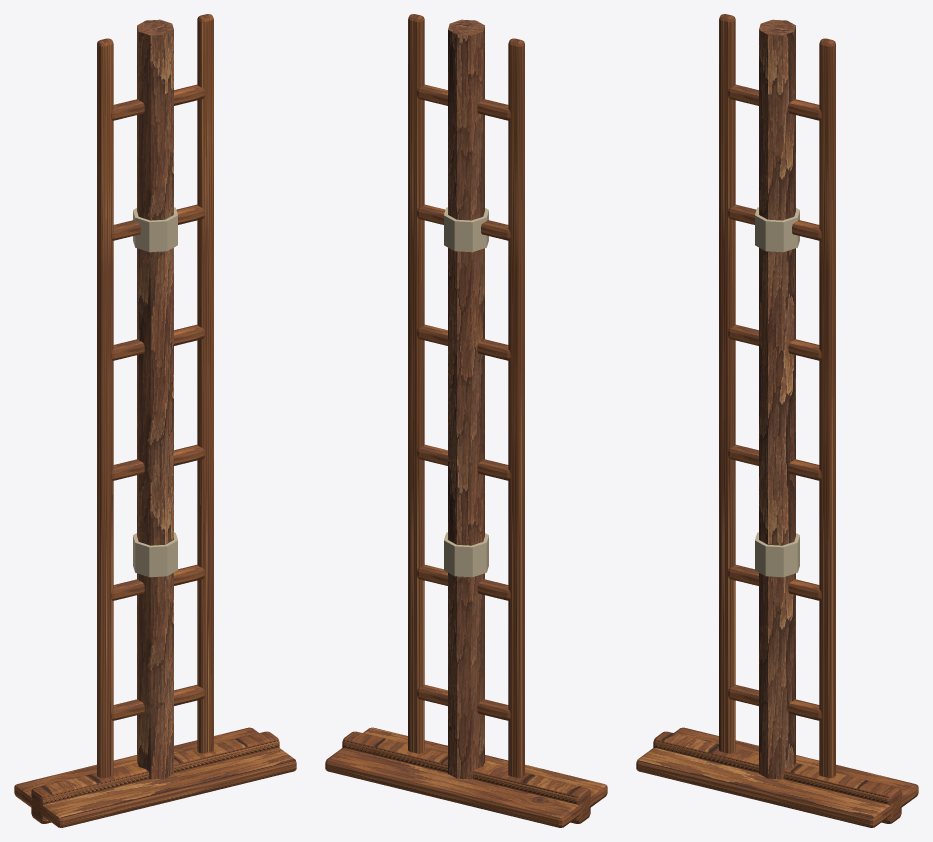
The model's file is scaffold-kit.glb.
3 renders of one model, left to right at view 1: azimuth 30°, elevation 25°; view 2: azimuth 150°, elevation 25°; view 3: azimuth 330°, elevation 25°, orthographic.
Parts seen in each view (by area): view 1: Scaffold_Post, railL, railR, Scaffold_Plank, Scaffold_Beam, rung2, rung3, rung5, rung0, rung1, rung4; view 2: Scaffold_Post, railL, railR, Scaffold_Plank, Scaffold_Beam, rung2, rung3, rung5, rung0, rung1, rung4; view 3: Scaffold_Post, railR, railL, Scaffold_Plank, Scaffold_Beam, rung2, rung3, rung5, rung0, rung1, rung4.
Boxes of the visible parts, x1=… form: Scaffold_Post: x1=133, y1=19, x2=177, y2=779; railL: x1=97, y1=38, x2=113, y2=777; railR: x1=197, y1=14, x2=213, y2=753; Scaffold_Plank: x1=14, y1=727, x2=296, y2=827; Scaffold_Beam: x1=31, y1=731, x2=279, y2=823; rung2: x1=111, y1=444, x2=204, y2=480; rung3: x1=111, y1=324, x2=204, y2=360; rung5: x1=111, y1=84, x2=204, y2=120; rung0: x1=111, y1=685, x2=204, y2=720; rung1: x1=111, y1=564, x2=204, y2=600; rung4: x1=111, y1=204, x2=204, y2=240; Scaffold_Post: x1=444, y1=19, x2=488, y2=779; railL: x1=508, y1=38, x2=524, y2=777; railR: x1=408, y1=14, x2=424, y2=753; Scaffold_Plank: x1=325, y1=727, x2=607, y2=827; Scaffold_Beam: x1=342, y1=731, x2=590, y2=823; rung2: x1=417, y1=444, x2=510, y2=480; rung3: x1=417, y1=324, x2=510, y2=360; rung5: x1=417, y1=84, x2=510, y2=120; rung0: x1=417, y1=685, x2=510, y2=720; rung1: x1=417, y1=564, x2=510, y2=600; rung4: x1=417, y1=204, x2=510, y2=240; Scaffold_Post: x1=755, y1=19, x2=799, y2=779; railR: x1=819, y1=38, x2=835, y2=777; railL: x1=719, y1=14, x2=735, y2=753; Scaffold_Plank: x1=636, y1=727, x2=918, y2=827; Scaffold_Beam: x1=653, y1=731, x2=901, y2=823; rung2: x1=728, y1=444, x2=821, y2=480; rung3: x1=728, y1=324, x2=821, y2=360; rung5: x1=728, y1=84, x2=821, y2=120; rung0: x1=728, y1=685, x2=821, y2=720; rung1: x1=728, y1=564, x2=821, y2=600; rung4: x1=728, y1=204, x2=821, y2=240.
Size of the model in its own units: 1 by 3.06 by 0.34.
4 materials, 3 textured.
